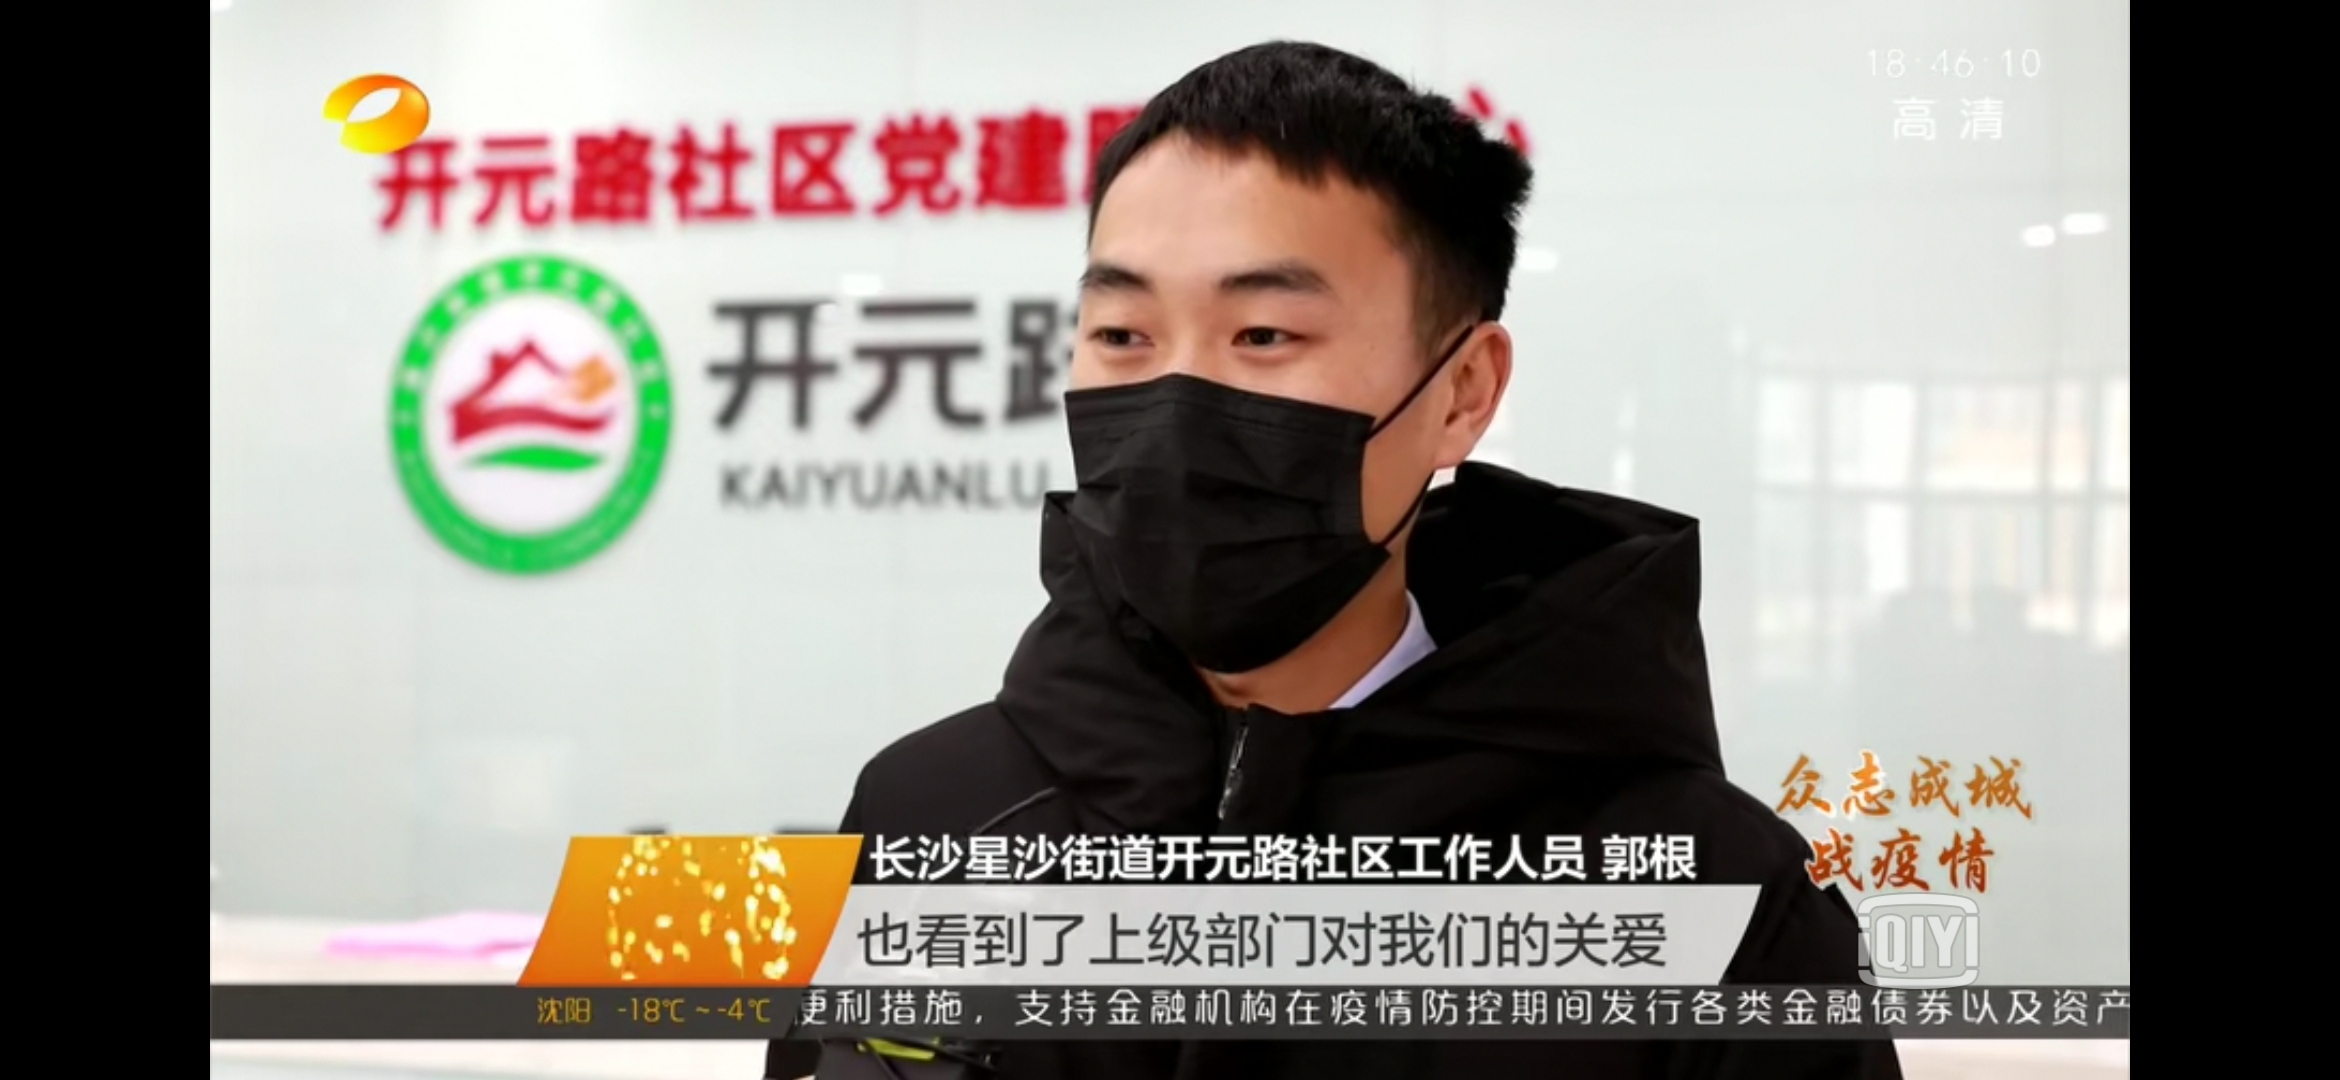correctlyWear: (1063, 219, 1515, 667)
